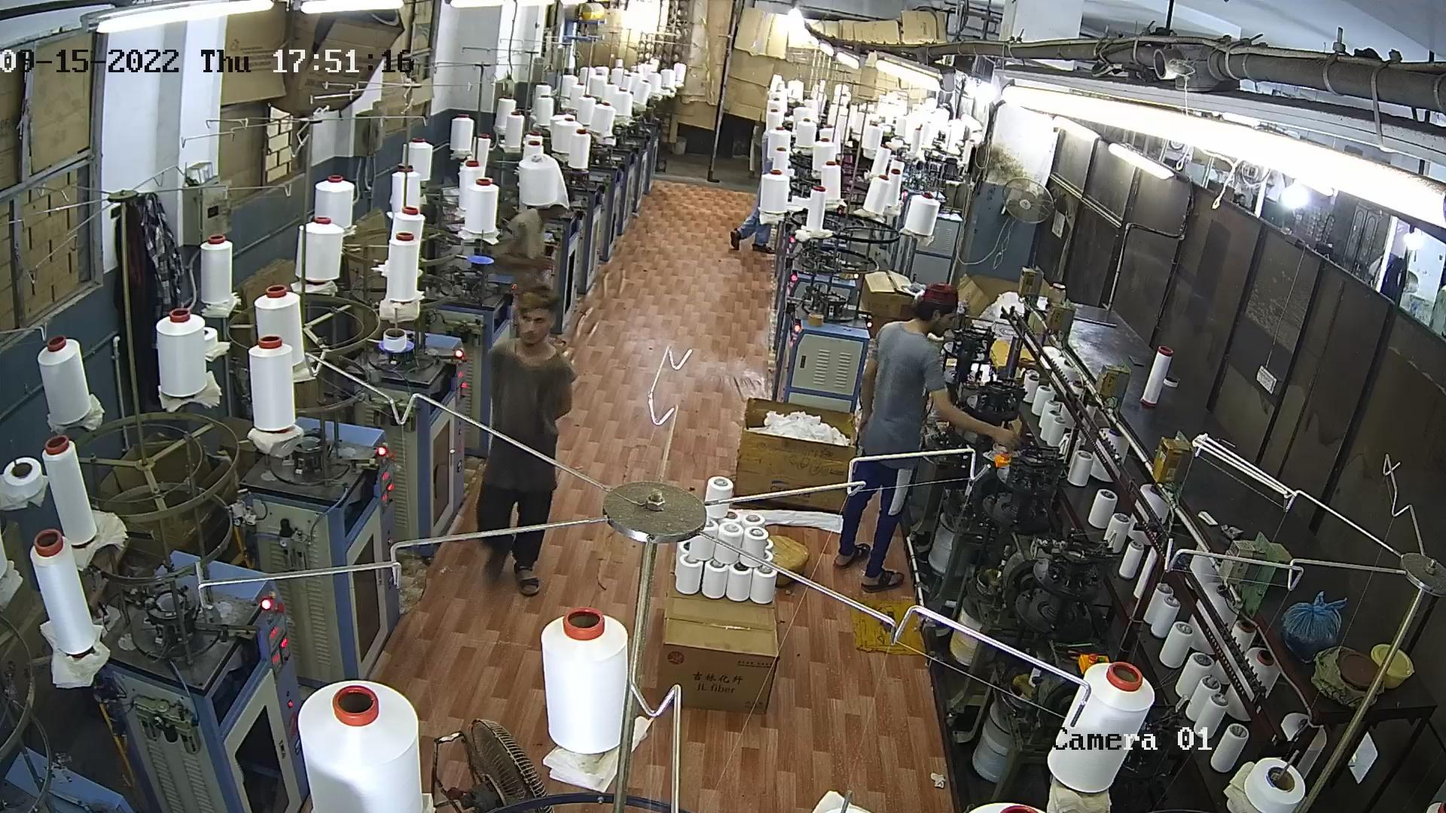person: (844, 281, 1002, 587), (485, 285, 558, 580)
